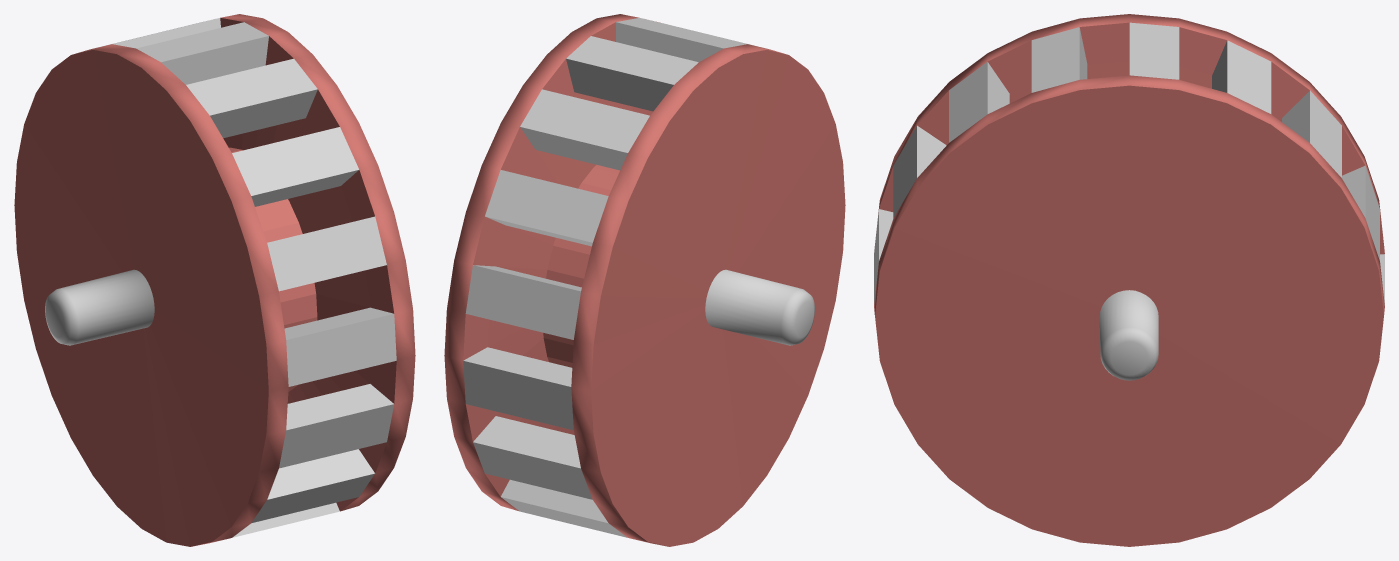
File: WoodWheel.fbx
3 renders of one model, left to right at view 1: azimuth 30°, elevation 25°; view 2: azimuth 150°, elevation 25°; view 3: azimuth 270°, elevation 25°, orthographic.
Visible parts, largest first — view 1: Wheel.001; view 2: Wheel.001; view 3: Wheel.001.
Part boxes in pixels (<box>): Wheel.001: <box>14,14,415,546</box>; Wheel.001: <box>444,14,845,546</box>; Wheel.001: <box>874,14,1384,546</box>.
Bounding box in the file's own units: 134 × 186 × 186.
